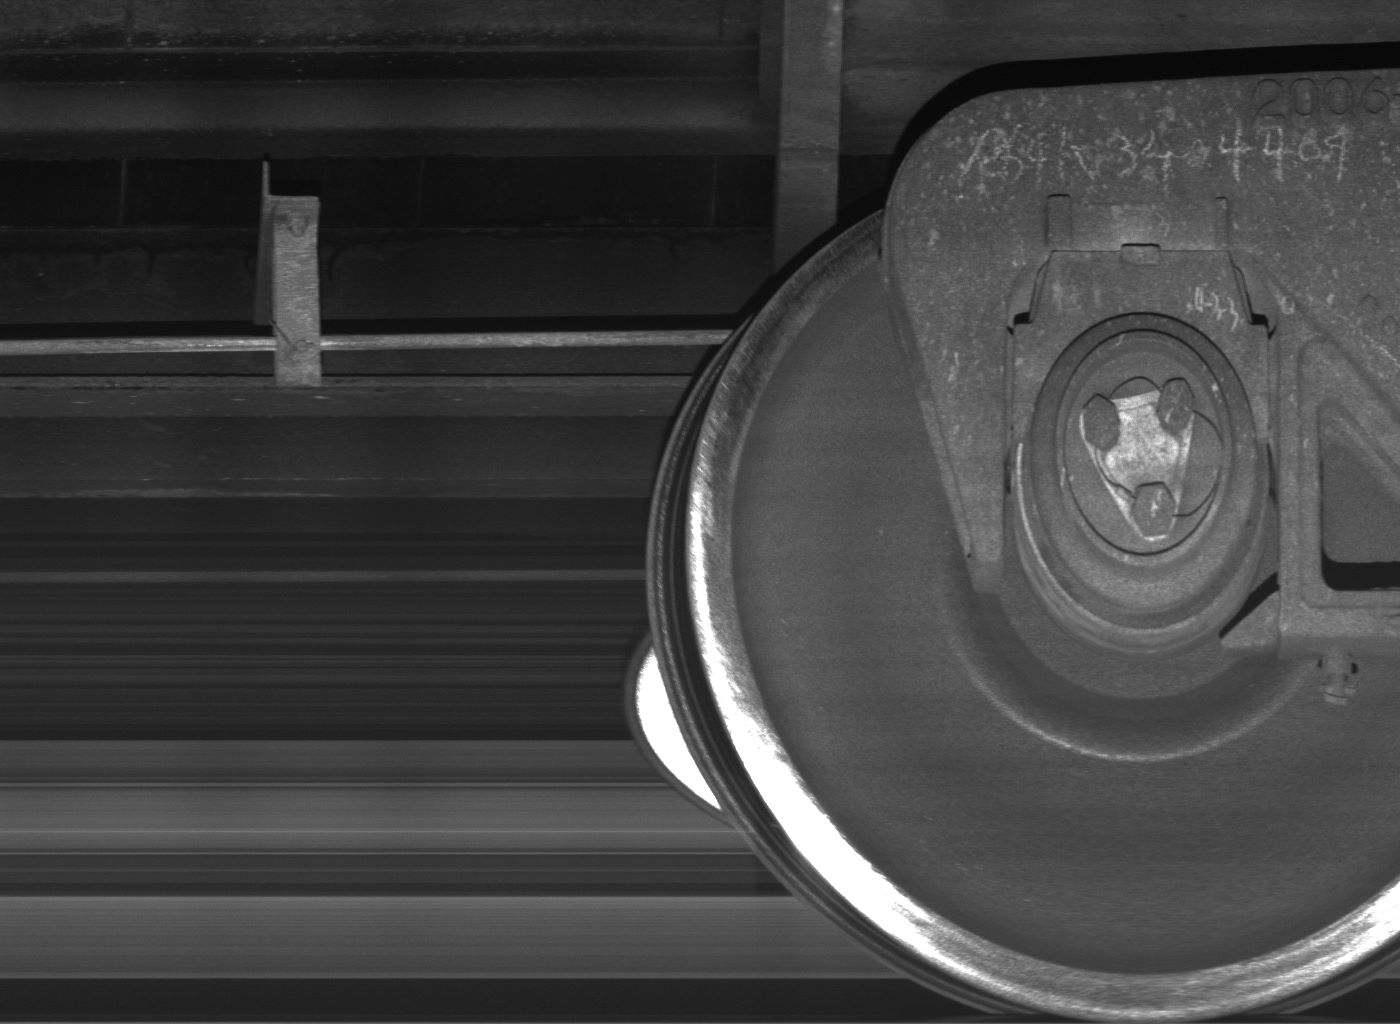normal: (254, 161, 324, 388)
